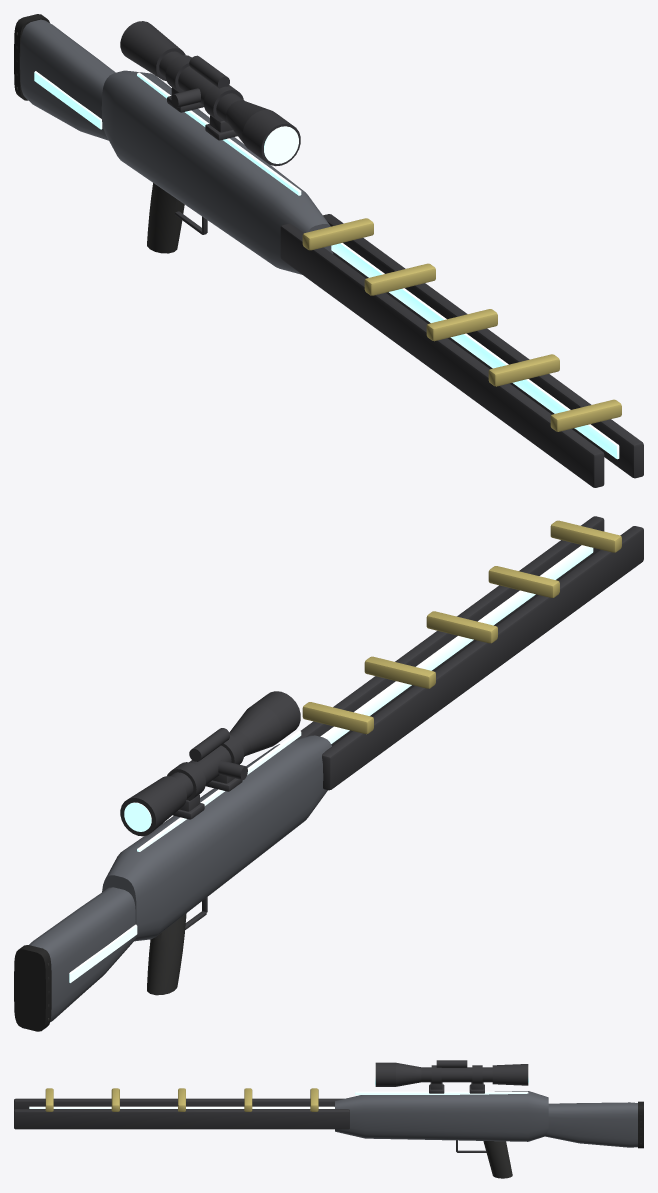
The model's file is raijin.glb.
3 views of the same model, one above another, from view 1: azimuth 30°, elevation 25°; view 2: azimuth 150°, elevation 25°; view 3: azimuth 270°, elevation 25° (orthographic). The views are drawn at different scales.
Visible parts, largest first — view 1: Body; view 2: Body; view 3: Body.
Boxes of the visible parts, <box> form: Body: <box>14,14,643,487</box>; Body: <box>14,516,643,1031</box>; Body: <box>14,1060,643,1178</box>.
Bounding box in the file's own units: 0.082 × 0.2484 × 1.24.
